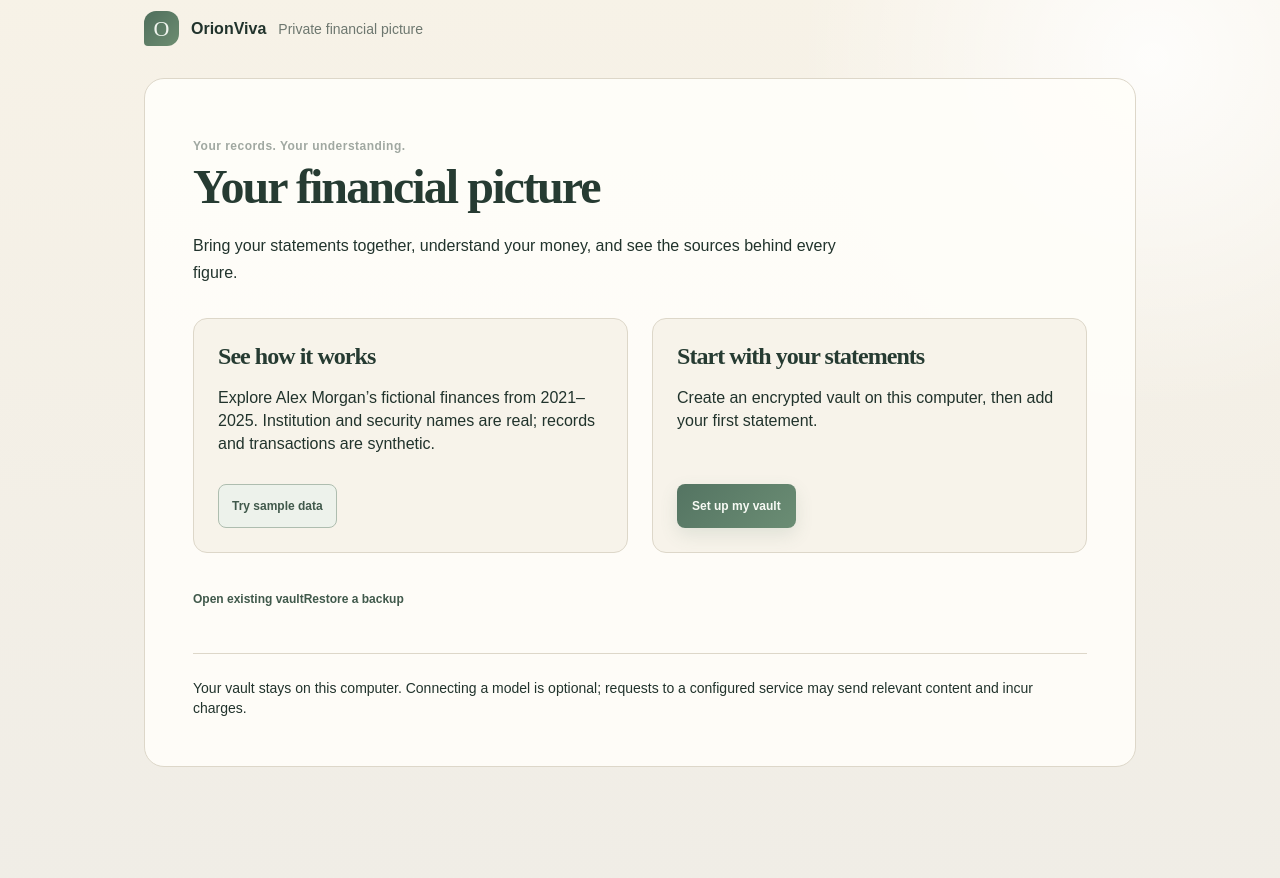
naming a folder › never repeats machine text from a code whose message is not a reviewed sentence
Click the button "Open existing vault" at (248, 598), box [193,576,304,620]
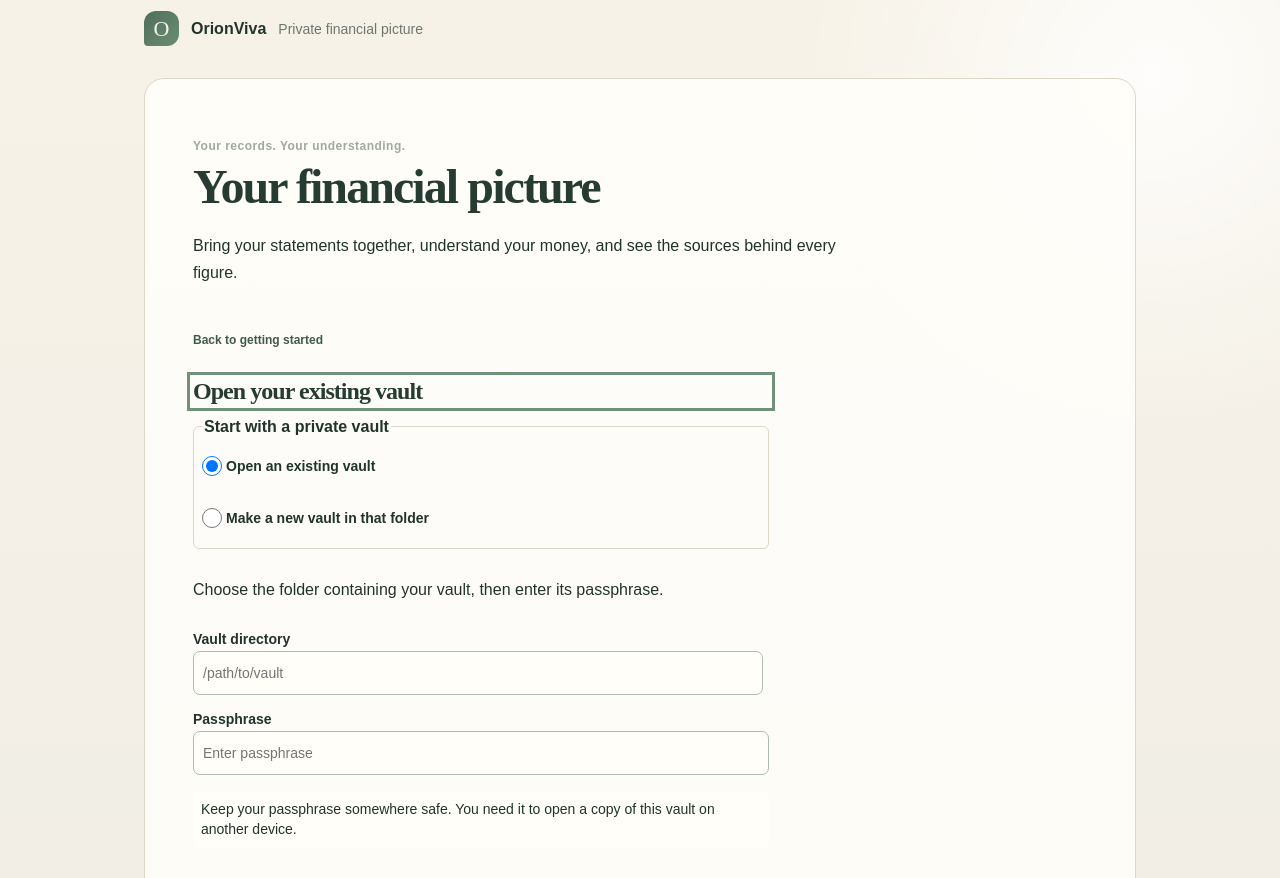
Type "/vault" into the field labelled "Vault directory" at (478, 673), box [193,651,763,695]
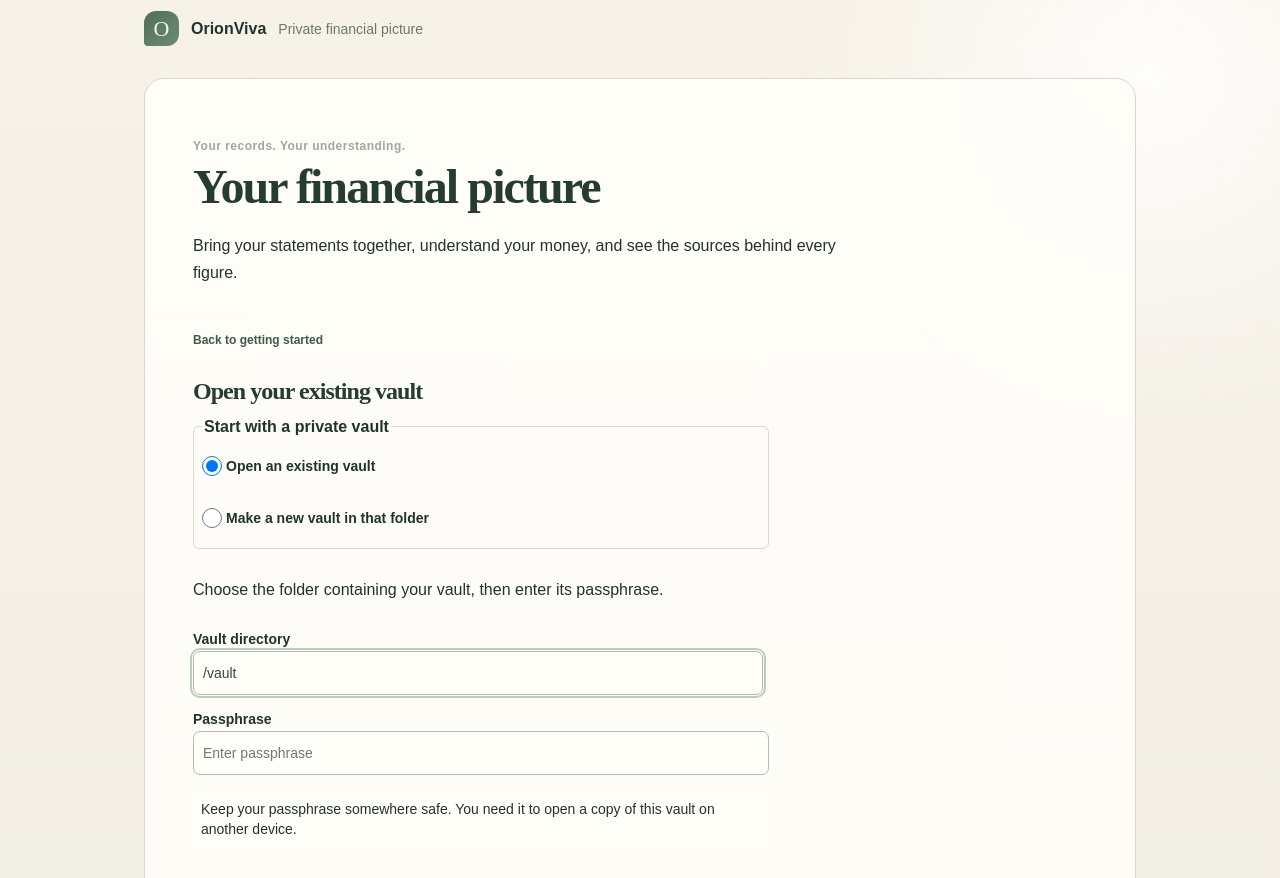
Type "secret" into the password field labelled "Passphrase" at (481, 753), box [193,731,769,775]
(page scrolled)
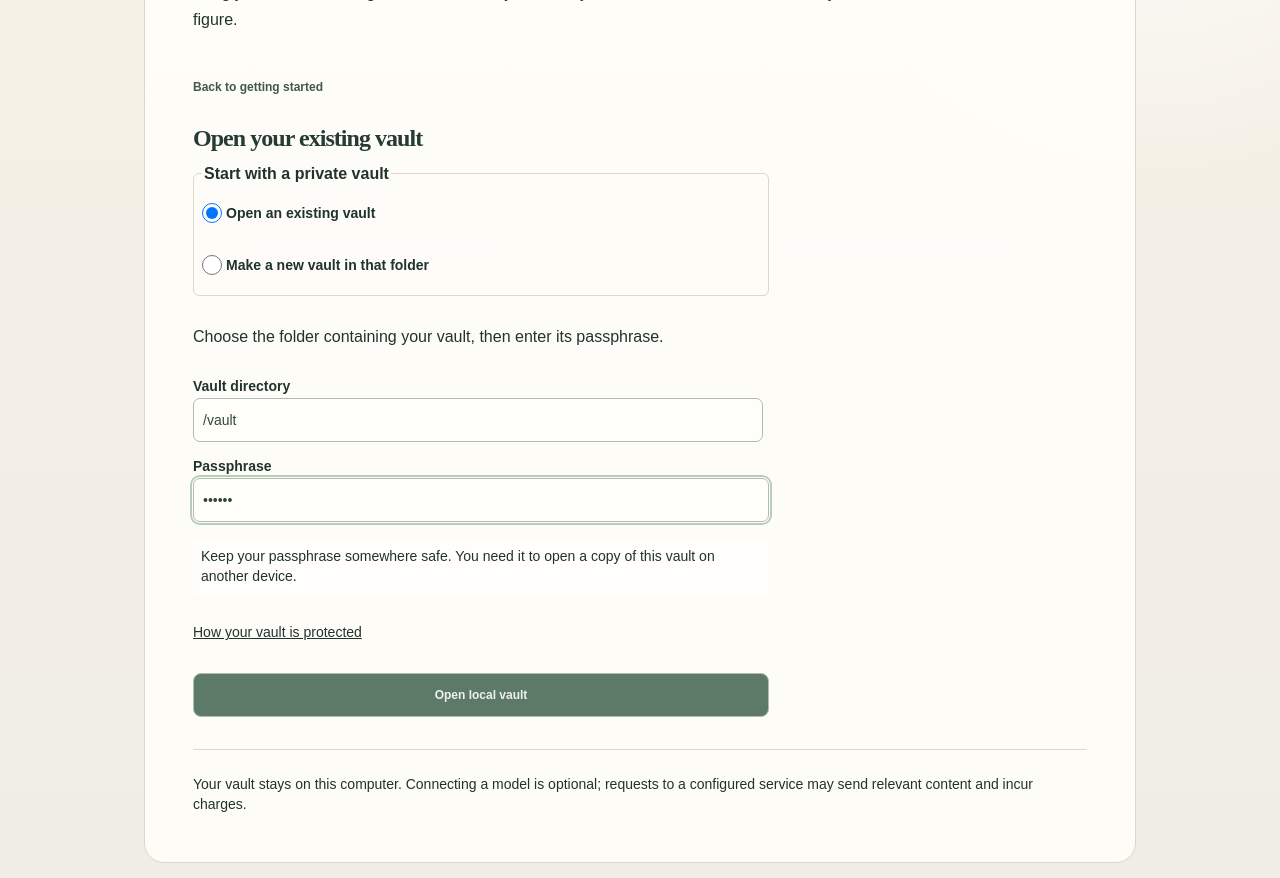
Click the button "Open local vault" at (481, 695), box [193,673,769,717]
(page scrolled)
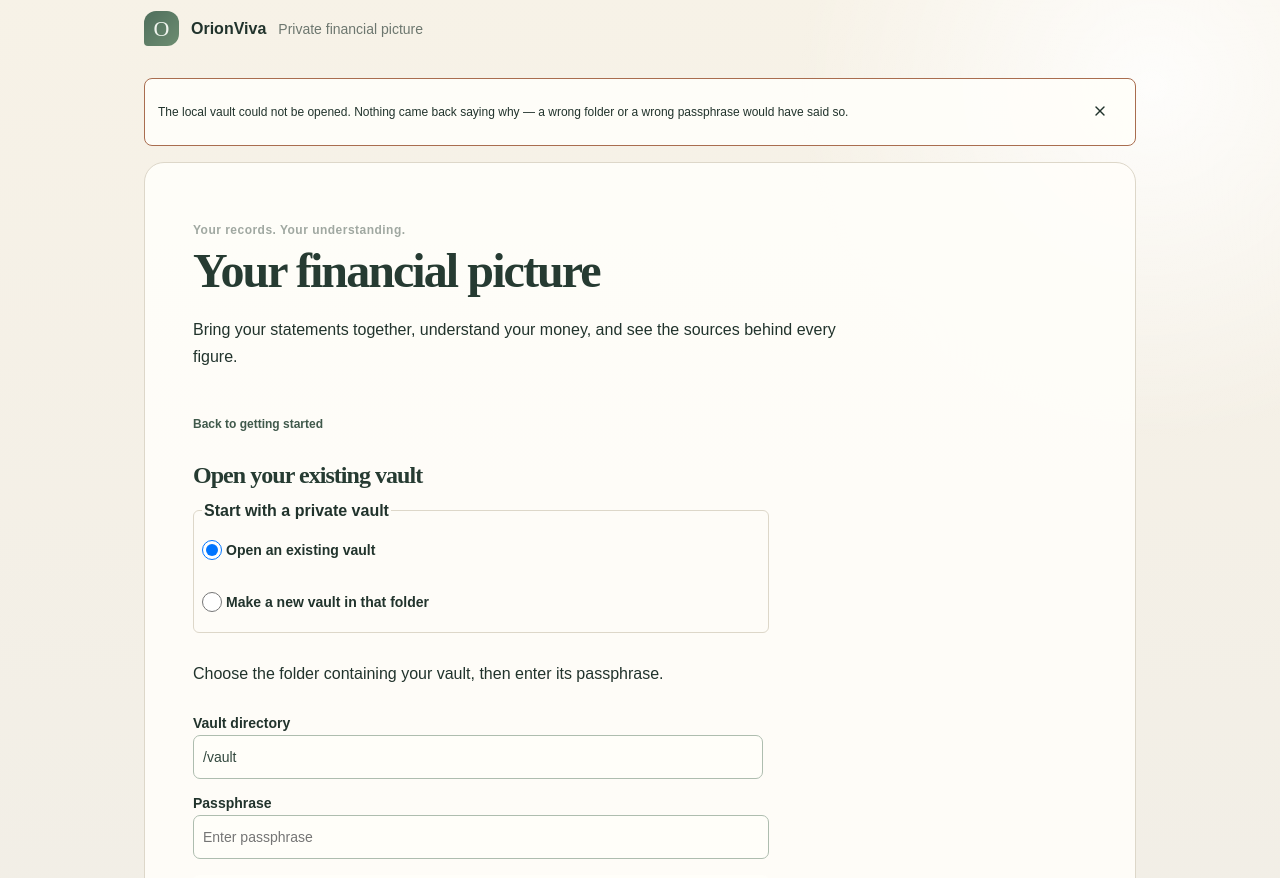
Expected: the message does not show "Everyday Checking", [144,78,1136,146]
Now the message shows "The local vault could not be opened.", box [158,105,848,119]
